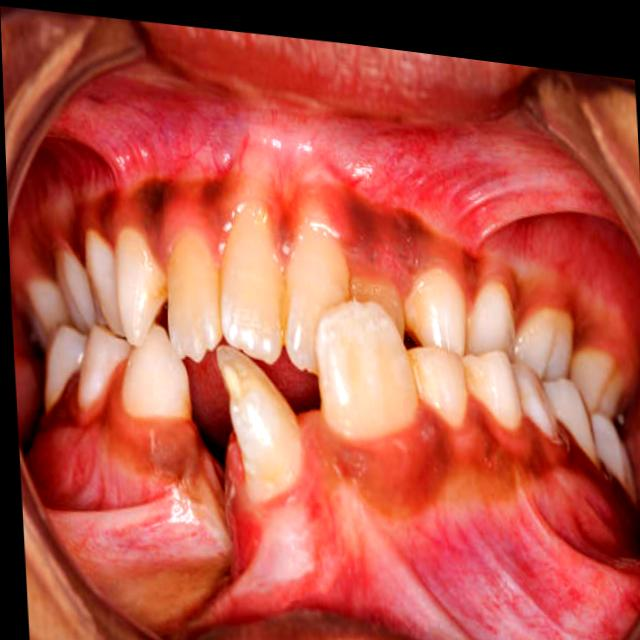gingivitis: (296, 411, 625, 532), (17, 143, 256, 277), (258, 180, 481, 294), (38, 392, 200, 480)
